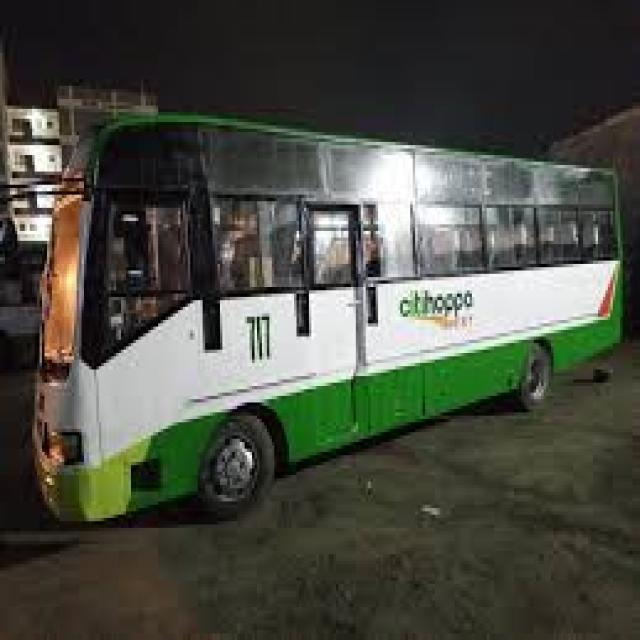bus: (0, 55, 631, 562)
